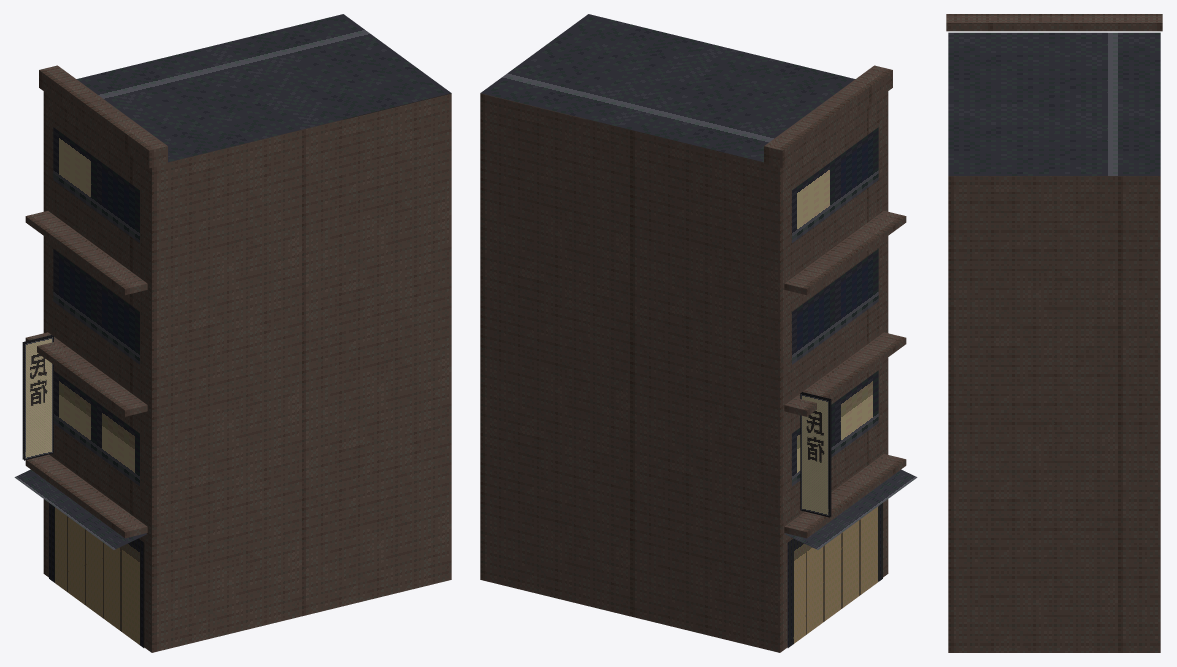
The model's file is mtn_block_al_c.glb.
3 renders of one model, left to right at view 1: azimuth 30°, elevation 25°; view 2: azimuth 150°, elevation 25°; view 3: azimuth 270°, elevation 25°, orthographic. The views are drawn at different scales.
Visible parts, largest first — view 1: mtn_block_al_c; view 2: mtn_block_al_c; view 3: mtn_block_al_c.
Boxes of the visible parts, x1,y1,x2,y2 form: mtn_block_al_c: [14, 14, 451, 652]; mtn_block_al_c: [480, 14, 917, 652]; mtn_block_al_c: [946, 14, 1162, 652].
Size of the model in its own units: 8.95 by 12.85 by 5.1.
Materials: 5 (5 with a texture image).
